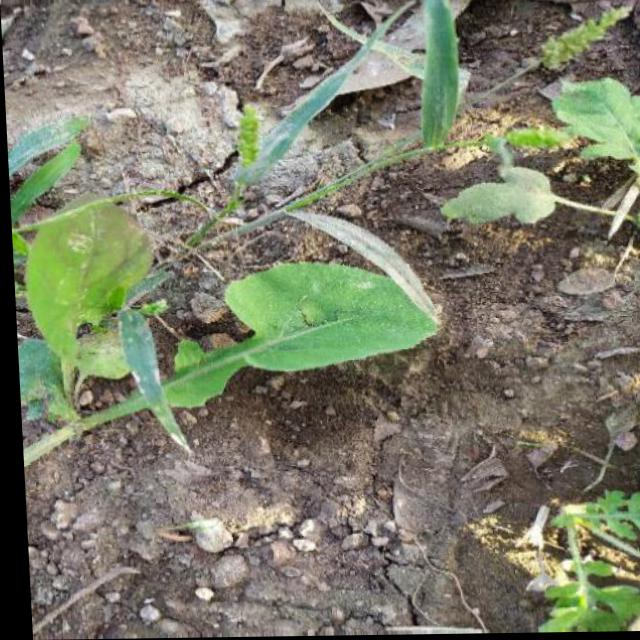weed: (12, 140, 451, 510), (403, 73, 640, 266), (482, 470, 640, 635)
